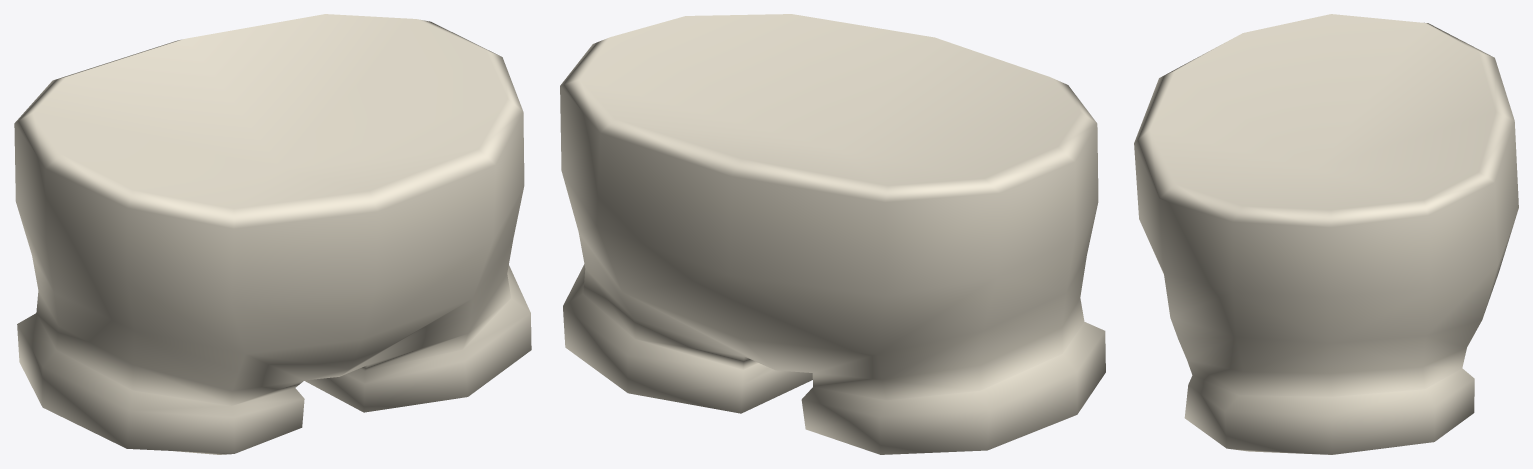
Rendered from Bottom_1.fbx.
The picture shows the model from 3 angles, left to right: view 1: azimuth 30°, elevation 25°; view 2: azimuth 150°, elevation 25°; view 3: azimuth 270°, elevation 25°; orthographic projection. The views are drawn at different scales.
Visible parts, largest first — view 1: Bottom_1; view 2: Bottom_1; view 3: Bottom_1.
Part boxes in pixels (<box>): Bottom_1: <box>14,14,531,454</box>; Bottom_1: <box>560,14,1105,454</box>; Bottom_1: <box>1134,14,1518,454</box>.
Size of the model in its own units: 38.94 by 22.89 by 29.68.
